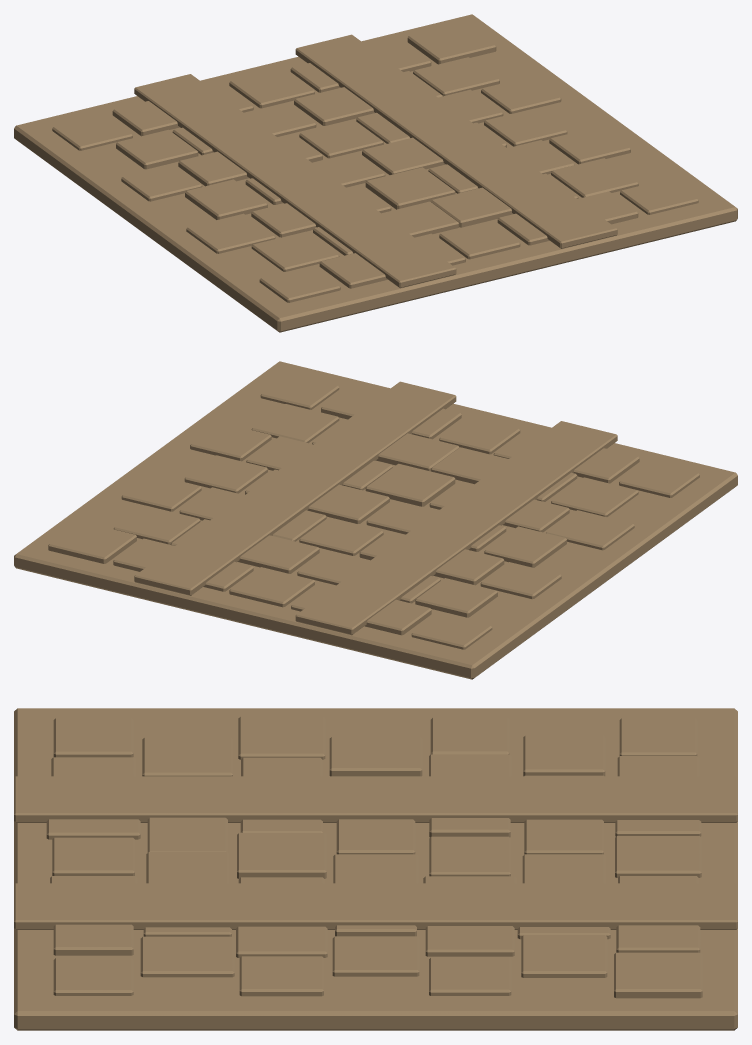
The model's file is fantasy-mmo-city-and-townsfolk-dirt-lane-tile-f811028e__32728.glb.
3 renders of one model, top to bottom at view 1: azimuth 30°, elevation 25°; view 2: azimuth 150°, elevation 25°; view 3: azimuth 270°, elevation 25°, orthographic. The views are drawn at different scales.
Visible parts, largest first — view 1: dirt-lane-tile; view 2: dirt-lane-tile; view 3: dirt-lane-tile.
Part boxes in pixels (x1,y1,x2,y2): dirt-lane-tile: (14, 14, 737, 332); dirt-lane-tile: (14, 361, 737, 679); dirt-lane-tile: (14, 708, 737, 1030).
Size of the model in its own units: 4 by 0.1899 by 4.
